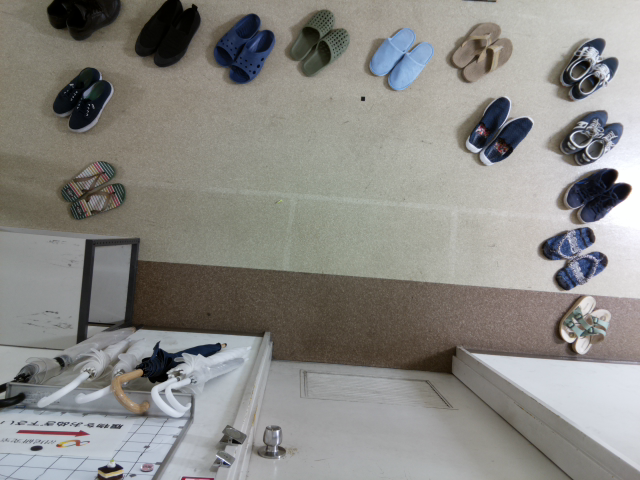Copy of Copy of Copy of Copy of Copy of Copy of Copy of Copy of Copy of Copy of: (563, 166, 620, 210), (575, 181, 632, 225), (557, 109, 609, 155), (576, 121, 625, 165)
Copy of Copy of Copy of Copy of Copy of Copy of Copy of Copy of Copy of shoes: (567, 53, 621, 101)
Copy of Copy of Copy of Copy of Copy of Copy of Copy of Copy of shoes: (558, 36, 606, 88)
Copy of Copy of Copy of Copy of Copy of Copy of Copy of sandal: (452, 21, 501, 68)
Copy of Copy of Copy of Copy of Copy of Copy of Copy of shoes: (477, 114, 533, 164)
Copy of Copy of Copy of Copy of Copy of Copy of sandal: (462, 37, 512, 82)
Copy of Copy of Copy of Copy of Copy of Copy of shoes: (463, 94, 512, 154)
Copy of Copy of Copy of Copy of Copy of sandal: (571, 306, 611, 355)
Copy of Copy of Copy of Copy of Copy of shoes: (47, 1, 98, 28)
Copy of Copy of Copy of Copy of Copy of slipper: (212, 12, 261, 66)
Copy of Copy of Copy of Copy of sandal: (558, 293, 597, 345)
Copy of Copy of Copy of Copy of shoes: (68, 1, 122, 40)
Copy of Copy of Copy of Copy of slipper: (226, 29, 275, 83)
Copy of Copy of Copy of sandal: (553, 249, 609, 290)
Copy of Copy of Copy of shoes: (52, 66, 102, 117)
Copy of Copy of Copy of slipper: (290, 9, 335, 61)
Copy of Copy of sandal: (541, 226, 595, 262)
Copy of Copy of shoes: (67, 77, 114, 134)
Copy of Copy of slipper: (301, 26, 350, 75)
Copy of sandal: (72, 182, 127, 220)
Copy of shoes: (133, 1, 183, 56)
Copy of slipper: (367, 26, 415, 74)
sandal: (60, 159, 116, 203)
shoes: (153, 3, 200, 67)
slipper: (386, 40, 433, 91)
